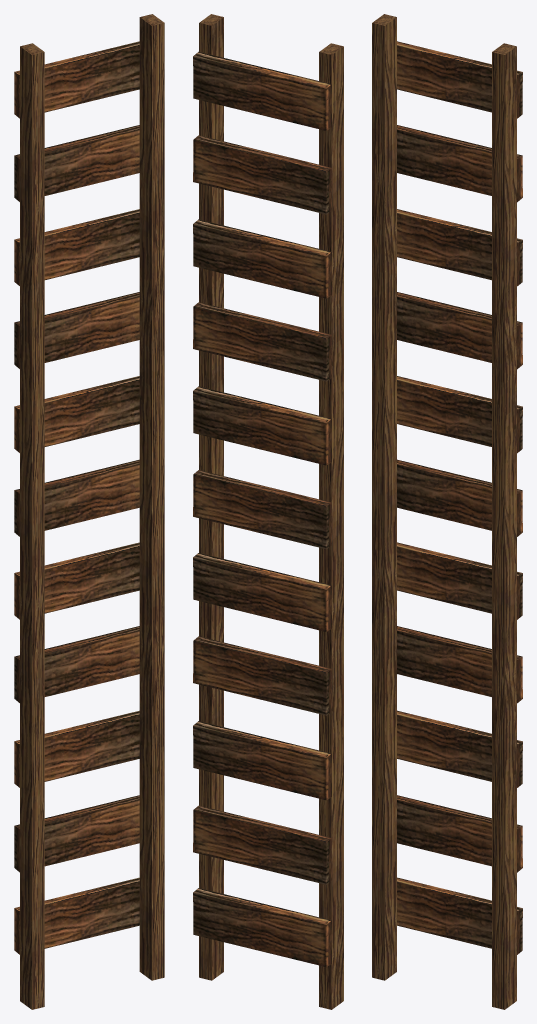
Rendered from INST_LT_LADDER_01.fbx.
3 renders of one model, left to right at view 1: azimuth 30°, elevation 25°; view 2: azimuth 150°, elevation 25°; view 3: azimuth 330°, elevation 25°, orthographic.
Parts seen in each view (by area): view 1: INST_LT_LADDER_01; view 2: INST_LT_LADDER_01; view 3: INST_LT_LADDER_01.
Boxes of the visible parts, x1,y1,x2,y2 form: INST_LT_LADDER_01: (14, 14, 164, 1009); INST_LT_LADDER_01: (193, 14, 343, 1009); INST_LT_LADDER_01: (372, 14, 522, 1009).
Bounding box in the file's own units: 5002 × 34248 × 1143.
2 materials, 2 textured.
